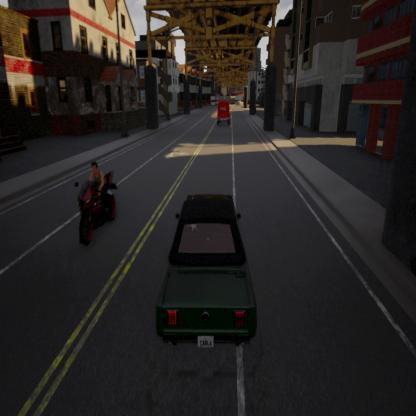Cars: (159, 191, 257, 352), (74, 158, 117, 244), (217, 97, 230, 129)
